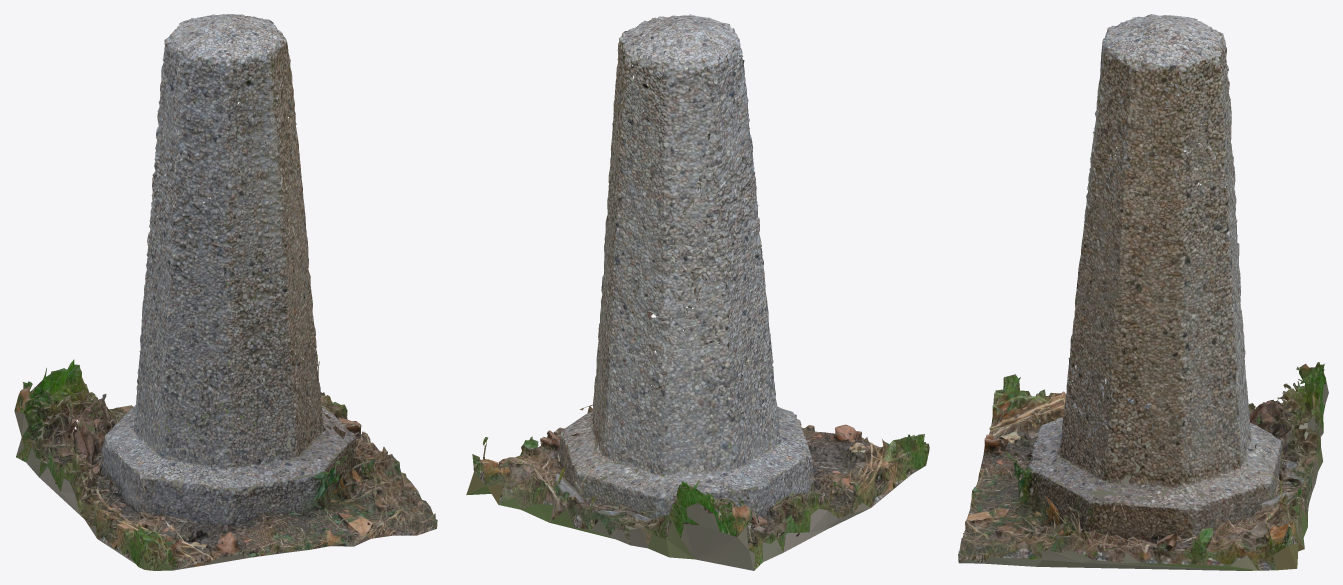
File: borne-4.glb
3 renders of one model, left to right at view 1: azimuth 30°, elevation 25°; view 2: azimuth 150°, elevation 25°; view 3: azimuth 270°, elevation 25°, orthographic. The views are drawn at different scales.
Visible parts, largest first — view 1: meshNode; view 2: meshNode; view 3: meshNode.
Boxes of the visible parts, <box> form: meshNode: <box>14,14,437,570</box>; meshNode: <box>466,14,929,570</box>; meshNode: <box>958,14,1328,570</box>.
Bounding box in the file's own units: 17.49 × 25.16 × 17.32.
Materials: 1 (1 with a texture image).
